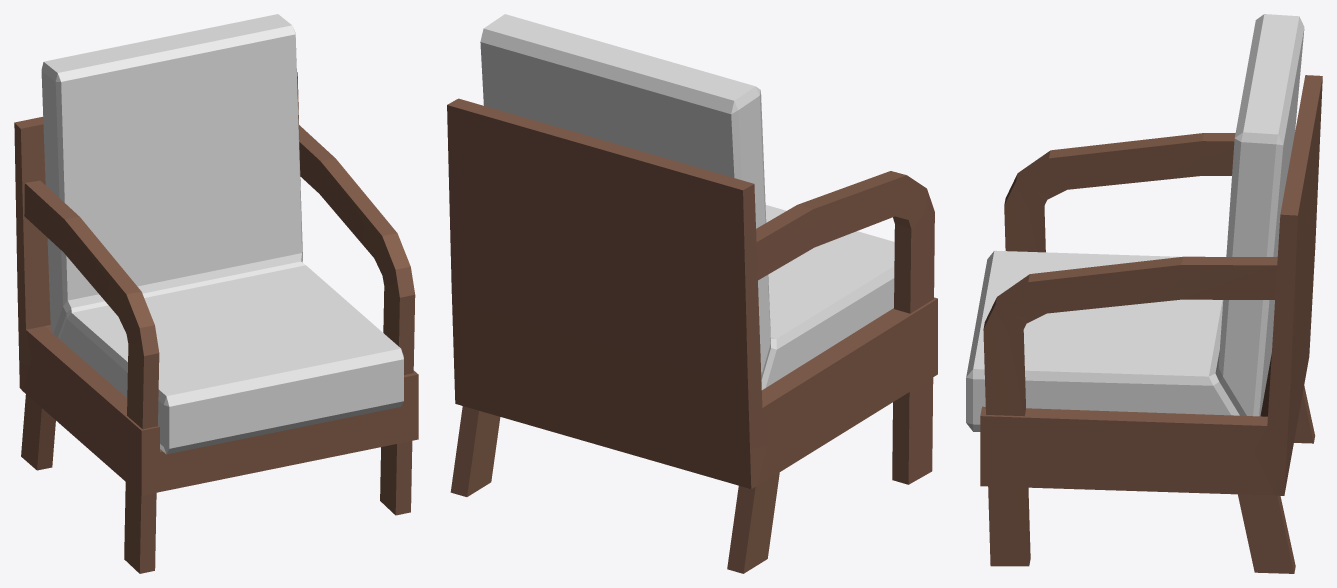
Rendered from Chair_Patio_Chair_231109.glb.
The picture shows the model from 3 angles, left to right: view 1: azimuth 30°, elevation 25°; view 2: azimuth 150°, elevation 25°; view 3: azimuth 270°, elevation 25°; orthographic projection. The views are drawn at different scales.
Visible parts, largest first — view 1: Patio_Chair; view 2: Patio_Chair; view 3: Patio_Chair.
Boxes of the visible parts, left/top/right/bottom form: Patio_Chair: left=14, top=14, right=418, bottom=573; Patio_Chair: left=447, top=14, right=937, bottom=573; Patio_Chair: left=966, top=14, right=1322, bottom=573.
Size of the model in its own units: 0.9539 by 1.3 by 0.9579.
1 material, 1 textured.
